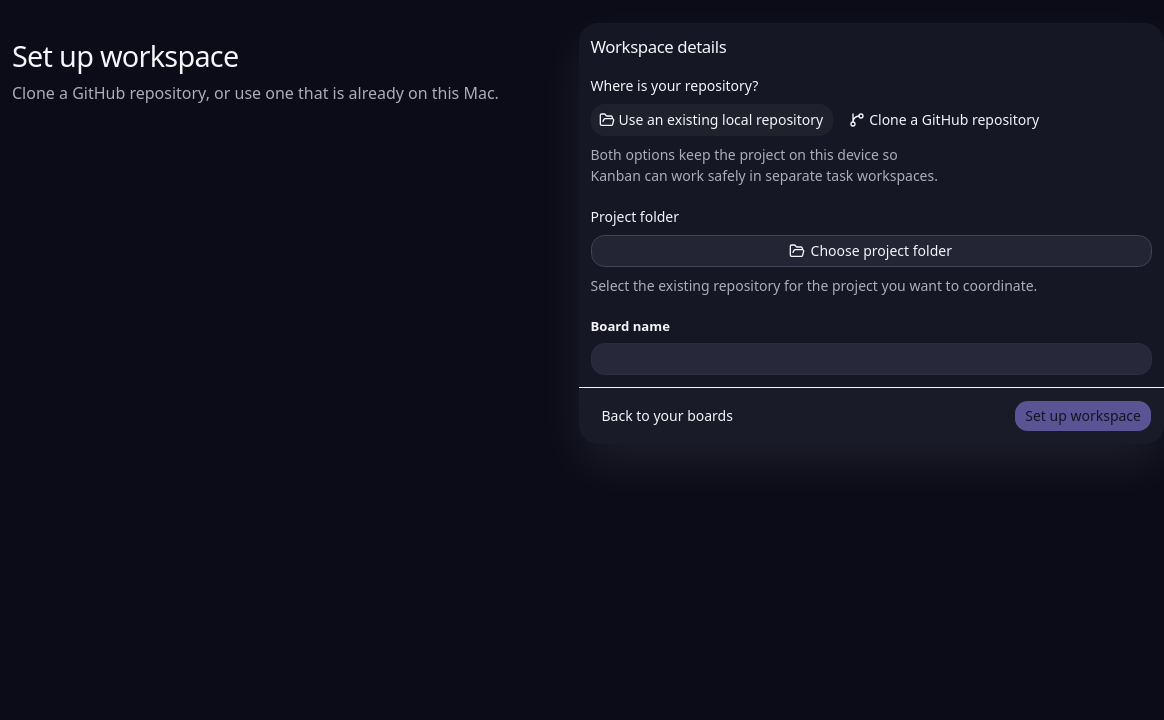
Scenario: BoardSetup › keeps cancellation local and creates nothing
Click the button "Choose project folder" at (871, 251), box [590,235,1152,267]
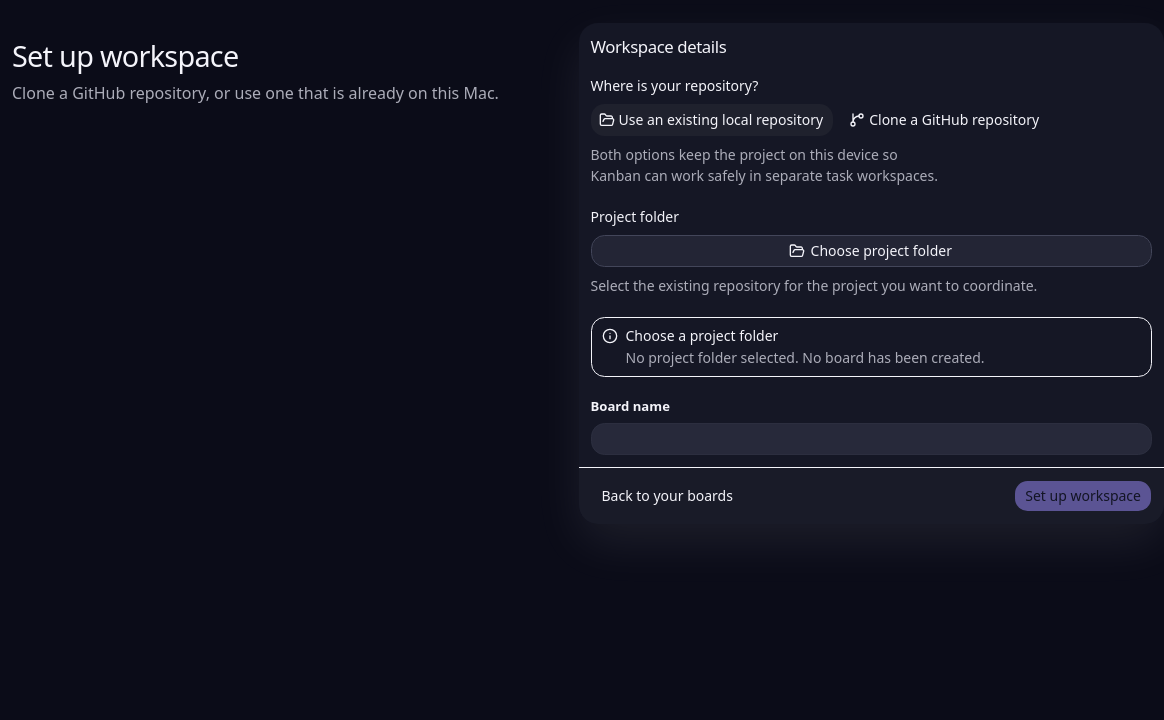
Expected: the button "Set up workspace" is disabled, [1014,480,1152,512]
Now the text "No project folder selected. No board has been created." is shown, box [626,348,985,367]
